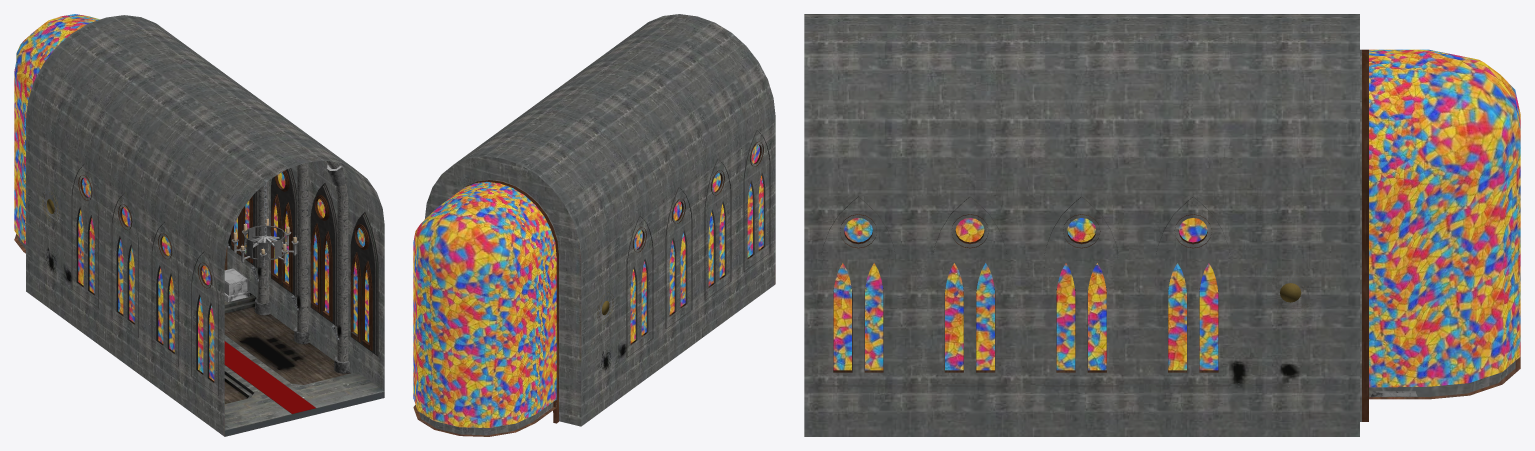
File: hall.glb
3 renders of one model, left to right at view 1: azimuth 30°, elevation 25°; view 2: azimuth 150°, elevation 25°; view 3: azimuth 270°, elevation 25°, orthographic. The views are drawn at different scales.
Visible parts, largest first — view 1: Wall_Base, Windows, BaseGround, Wall_Beam, Windows.001, Red_Carpet, Chandelier, Effigy_01; view 2: Wall_Base, Windows, Windows.001, BaseGround; view 3: Wall_Base, Windows.001, Windows.
Boxes of the visible parts, <box> form: Wall_Base: <box>14,14,384,436</box>; Windows: <box>71,163,378,395</box>; BaseGround: <box>14,234,384,436</box>; Wall_Beam: <box>182,161,349,373</box>; Windows.001: <box>78,172,368,380</box>; Red_Carpet: <box>224,341,315,413</box>; Chandelier: <box>231,183,298,267</box>; Effigy_01: <box>224,268,250,301</box>; Wall_Base: <box>413,14,775,435</box>; Windows: <box>626,130,770,357</box>; Windows.001: <box>630,144,763,343</box>; BaseGround: <box>413,405,555,436</box>; Wall_Base: <box>804,14,1520,436</box>; Windows.001: <box>833,218,1218,370</box>; Windows: <box>821,196,1230,386</box>.
Size of the model in its own units: 17.99 by 27.11 by 49.48.
15 materials, 14 textured.
